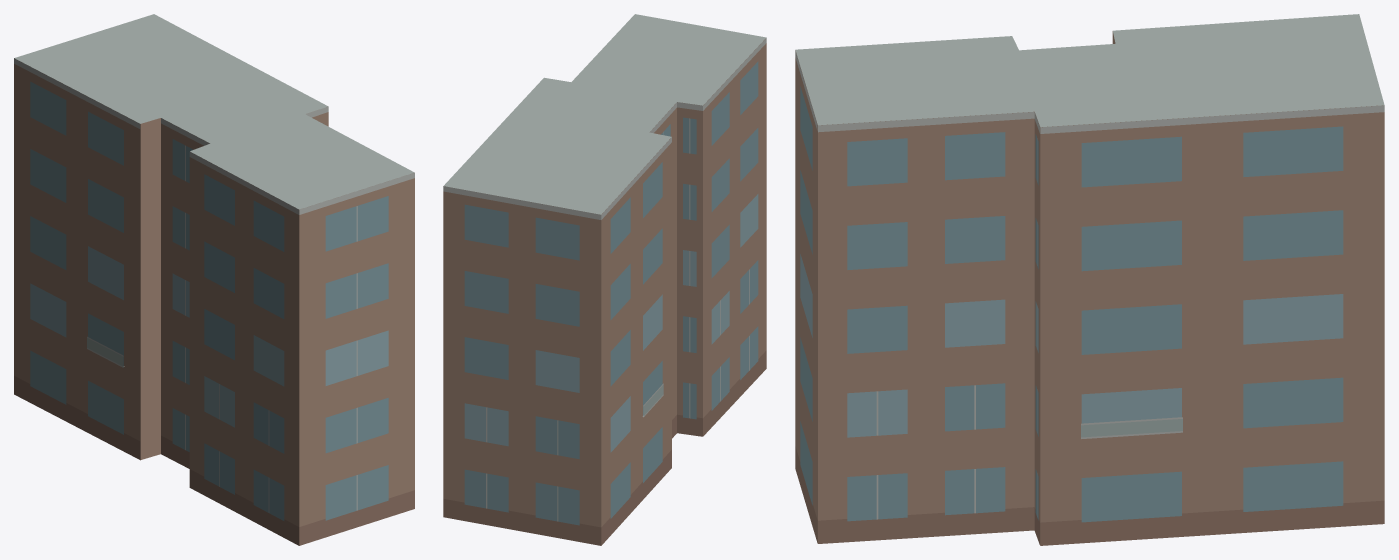
Rendered from survey-upis-32577318.glb.
3 renders of one model, left to right at view 1: azimuth 30°, elevation 25°; view 2: azimuth 150°, elevation 25°; view 3: azimuth 270°, elevation 25°, orthographic. The views are drawn at different scales.
Visible parts, largest first — view 1: survey-upis-32577318.tmp; view 2: survey-upis-32577318.tmp; view 3: survey-upis-32577318.tmp.
Boxes of the visible parts, box(x1,y1,x2,y2) form: survey-upis-32577318.tmp: box(14, 14, 414, 545); survey-upis-32577318.tmp: box(443, 14, 766, 545); survey-upis-32577318.tmp: box(795, 14, 1384, 545).
Bounding box in the file's own units: 8.62 × 14.85 × 18.95.
